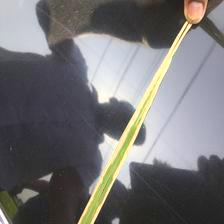2 BacterialBlight: (100, 43, 172, 186)
